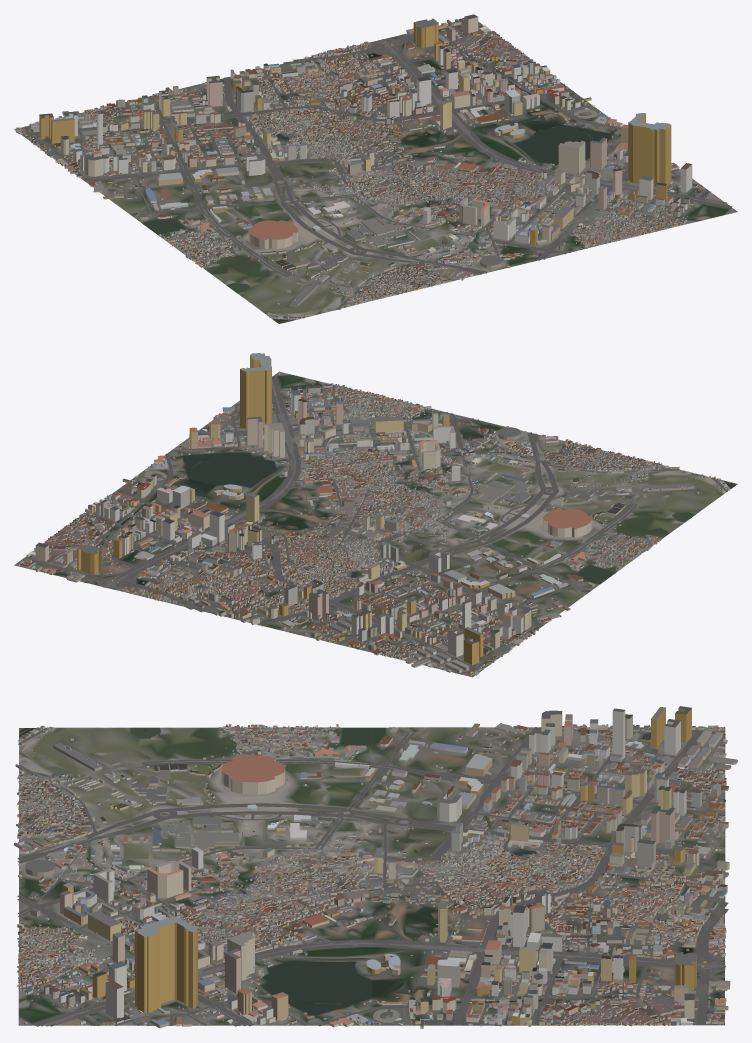
The picture shows the model from 3 angles, top to bottom: view 1: azimuth 30°, elevation 25°; view 2: azimuth 150°, elevation 25°; view 3: azimuth 270°, elevation 25°; orthographic projection. The views are drawn at different scales.
Parts seen in each view (by area): view 1: buildings, ground, roads, water; view 2: buildings, ground, roads, water; view 3: buildings, ground, roads, water.
Boxes of the visible parts, x1,y1,x2,y2 form: buildings: [15, 14, 733, 319]; ground: [14, 21, 737, 323]; roads: [25, 22, 733, 321]; water: [142, 53, 708, 322]; buildings: [16, 353, 729, 676]; ground: [14, 371, 737, 677]; roads: [14, 374, 728, 674]; water: [83, 429, 734, 590]; buildings: [14, 706, 737, 1028]; ground: [18, 727, 725, 1025]; roads: [17, 727, 728, 1026]; water: [19, 727, 724, 1025].
Size of the model in its own units: 2859 by 340 by 2874.
